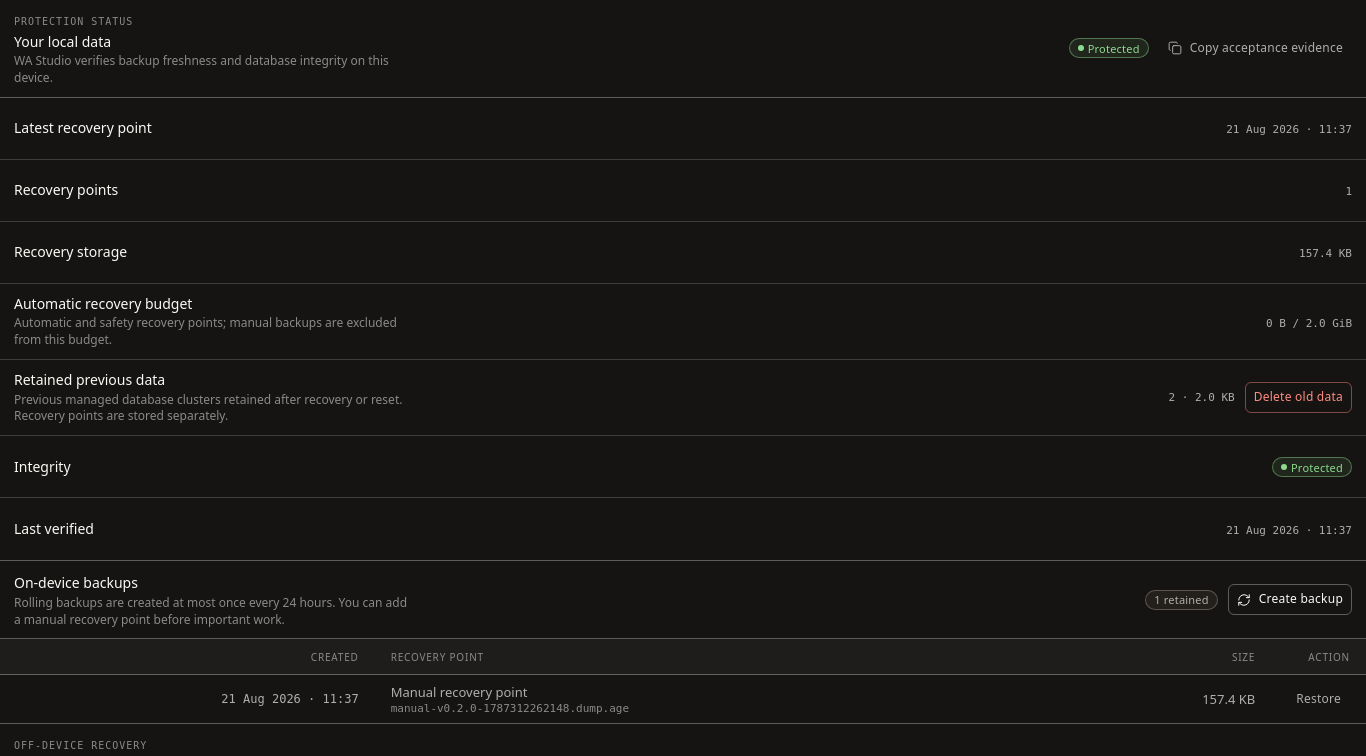
Scenario: BackupRecoverySettings › requires confirmation before deleting retained previous data
Click the button "Delete old data" at (1298, 398), box left=1245, top=382, right=1352, bottom=413
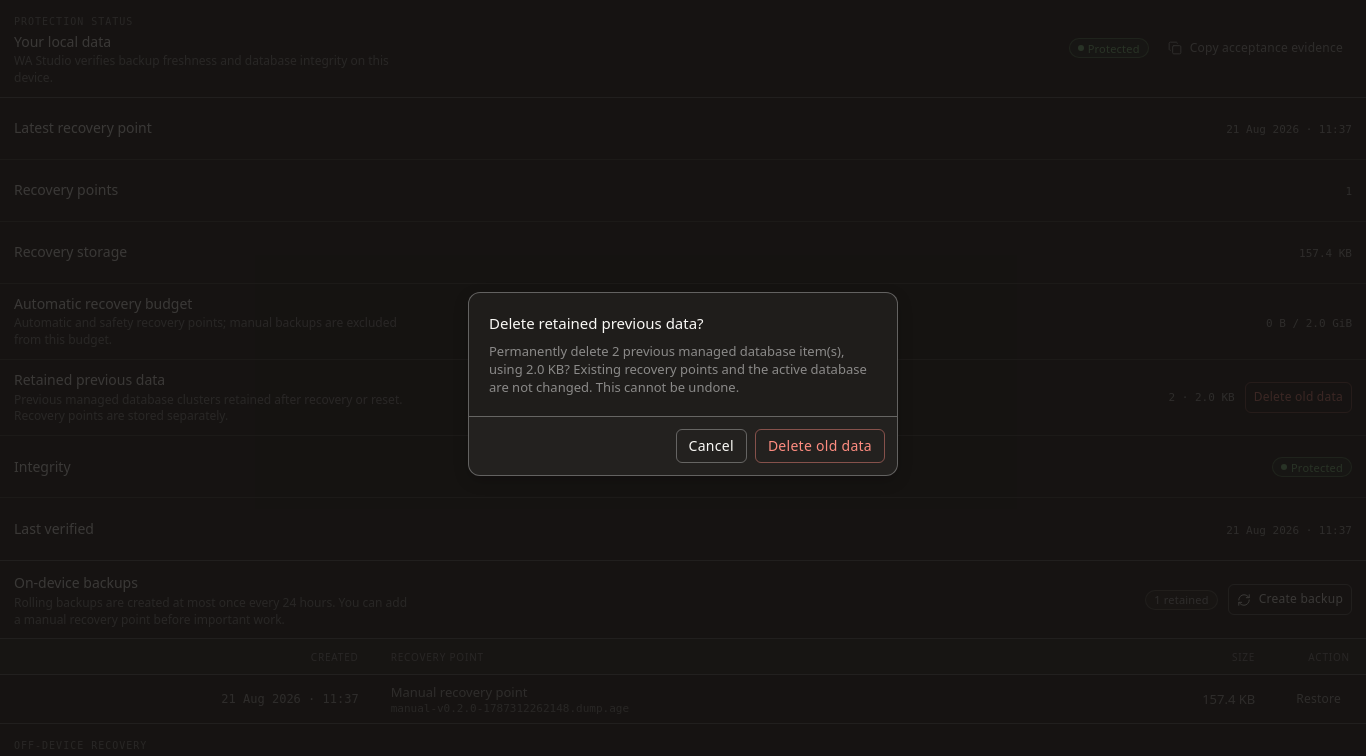
Check: the dialog "Delete retained previous data?" shows "Existing recovery points and the active database are not changed", box left=489, top=360, right=867, bottom=396
Click the button "Delete old data" at (820, 446), box left=755, top=429, right=885, bottom=463
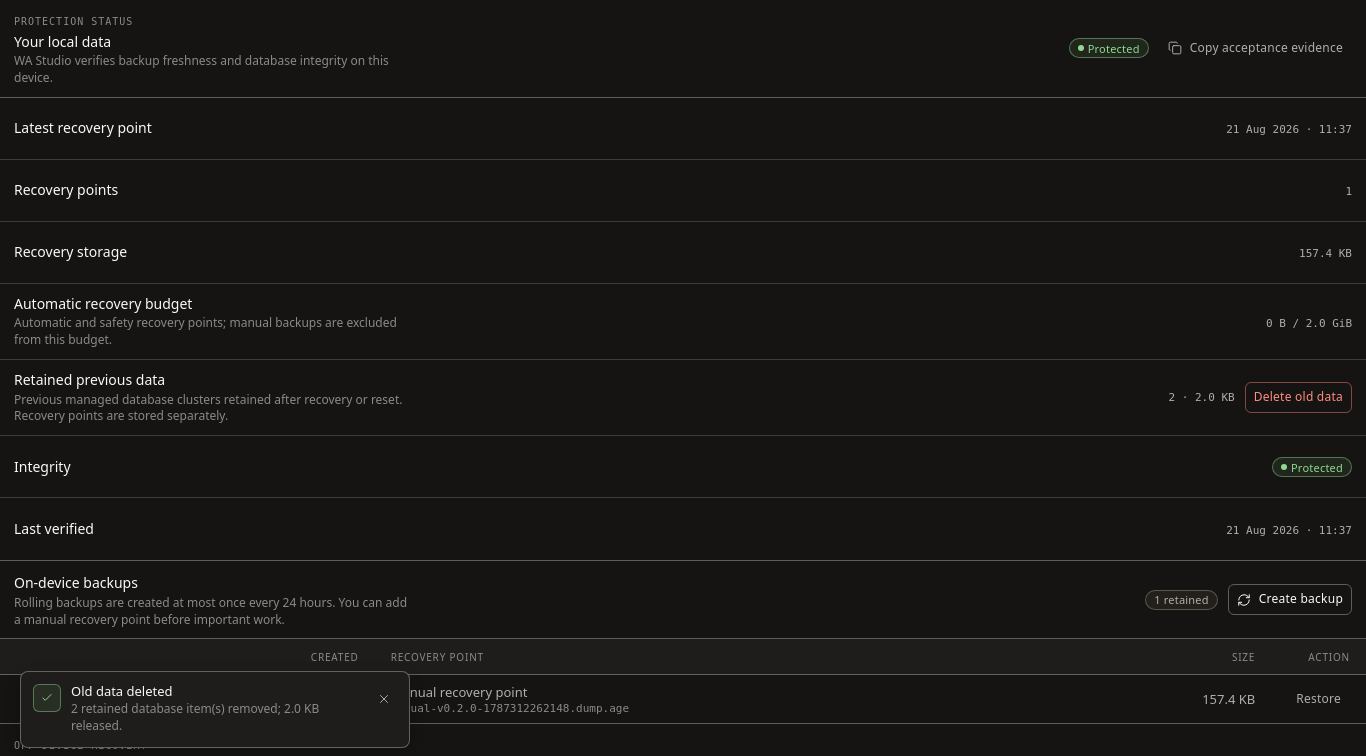
Check: the text "Old data deleted" is shown, box left=71, top=682, right=173, bottom=700
